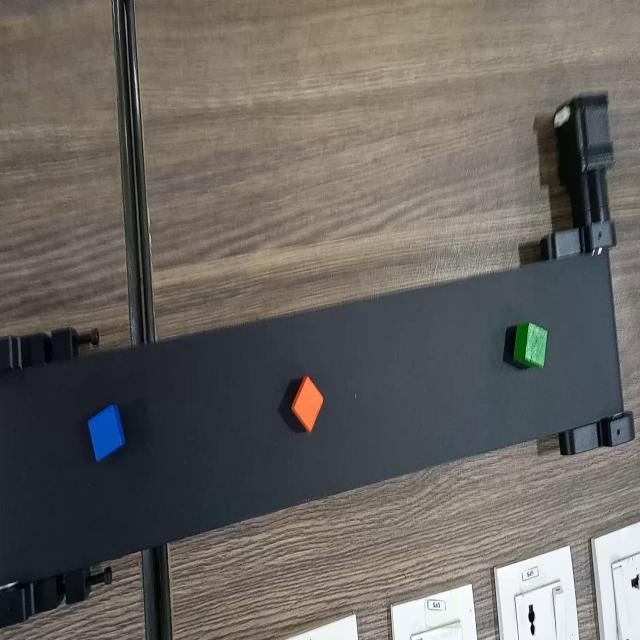cube: (81, 399, 131, 465), (288, 369, 332, 433), (507, 317, 552, 373)
